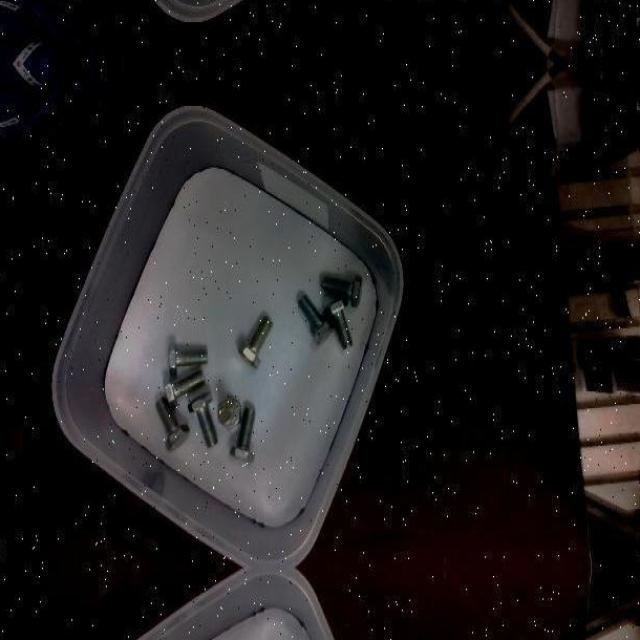screw: (298, 292, 336, 344), (238, 316, 274, 369), (155, 397, 190, 451), (163, 369, 206, 410), (188, 392, 218, 448), (324, 295, 354, 349), (230, 406, 257, 461), (169, 343, 209, 377), (322, 274, 362, 307), (218, 394, 242, 430)
